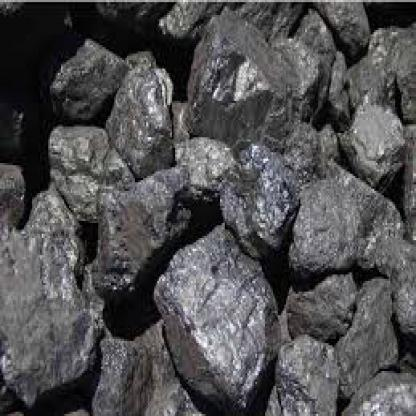Sedimentary_coal: (151, 212, 276, 408), (0, 242, 98, 406), (186, 4, 294, 148), (88, 165, 190, 294), (288, 168, 406, 274), (219, 144, 297, 248), (108, 56, 176, 174), (337, 86, 405, 182), (283, 283, 358, 335)
